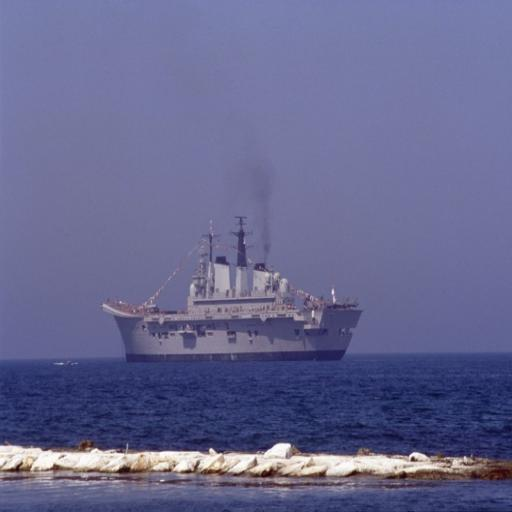Portanaves: (101, 209, 367, 368)
